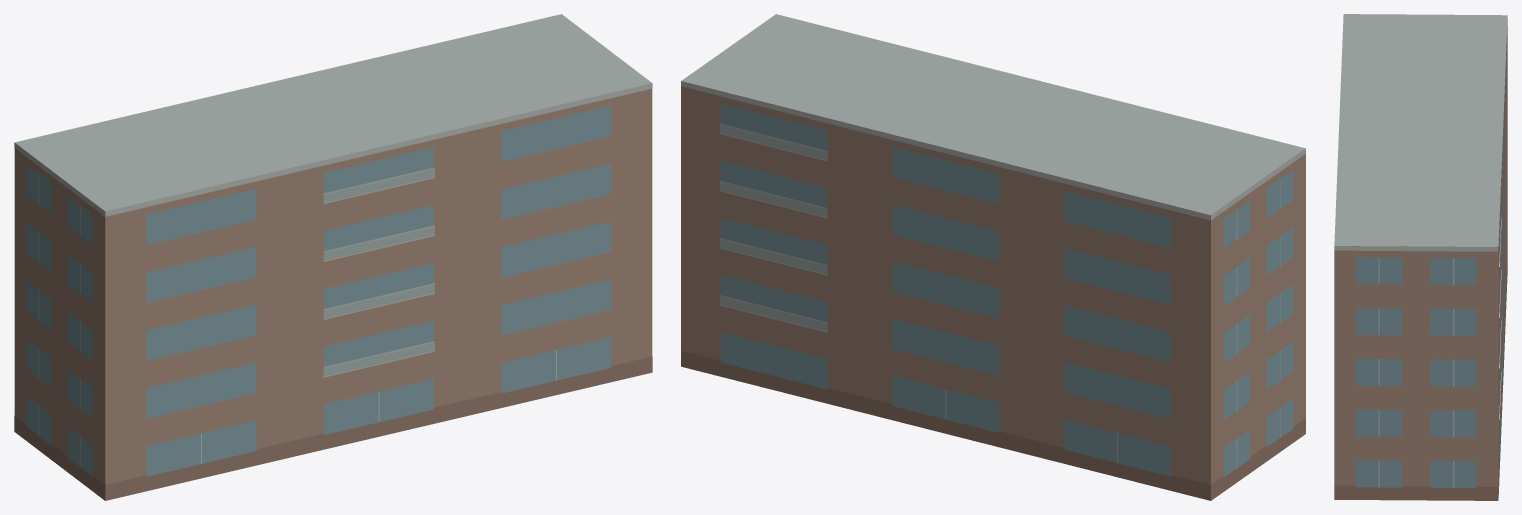
Rendered from survey-upis-32937614.glb.
3 renders of one model, left to right at view 1: azimuth 30°, elevation 25°; view 2: azimuth 150°, elevation 25°; view 3: azimuth 270°, elevation 25°, orthographic. The views are drawn at different scales.
Visible parts, largest first — view 1: survey-upis-32937614.tmp; view 2: survey-upis-32937614.tmp; view 3: survey-upis-32937614.tmp.
Boxes of the visible parts, bbox=[...] form: survey-upis-32937614.tmp: bbox=[14, 14, 652, 500]; survey-upis-32937614.tmp: bbox=[681, 14, 1305, 500]; survey-upis-32937614.tmp: bbox=[1334, 14, 1507, 500].
Size of the model in its own units: 25.91 by 13.15 by 8.15.
